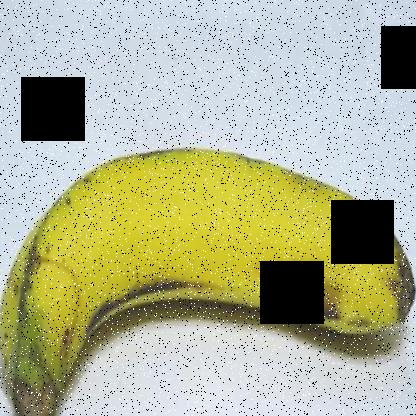freshripe: (1, 132, 414, 415)
